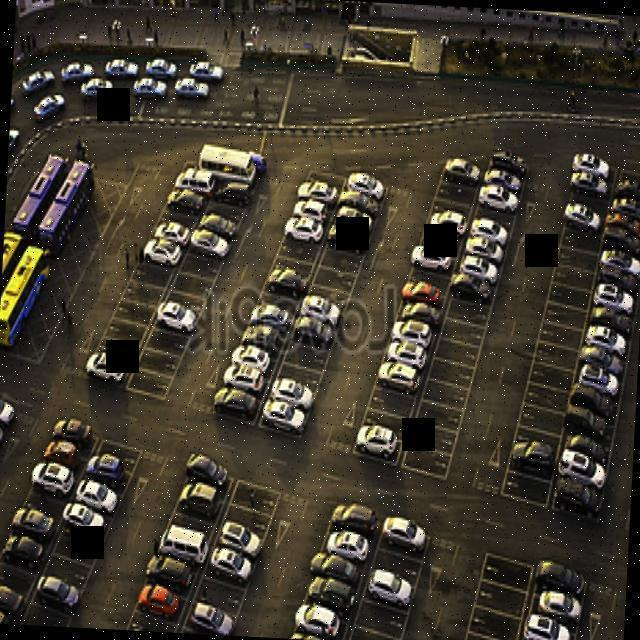space-empty: (354, 595, 414, 639), (193, 572, 248, 619), (479, 546, 536, 590), (500, 468, 557, 510), (42, 547, 96, 591), (469, 577, 528, 617), (364, 380, 420, 422), (222, 500, 275, 544), (372, 546, 428, 587), (161, 501, 215, 543), (232, 471, 282, 516), (273, 358, 326, 399), (301, 276, 354, 317), (438, 310, 491, 350), (320, 235, 368, 279), (52, 523, 101, 566), (166, 264, 217, 305), (464, 604, 521, 640), (405, 420, 458, 458), (443, 294, 495, 332), (434, 331, 483, 371), (20, 483, 70, 522), (124, 366, 175, 404), (313, 260, 361, 300), (95, 429, 144, 468), (178, 248, 228, 286), (355, 406, 409, 441), (158, 284, 209, 321), (126, 257, 174, 296), (429, 352, 476, 391), (118, 276, 166, 314), (285, 339, 334, 376), (514, 403, 567, 437), (144, 327, 194, 363), (425, 376, 472, 414), (273, 232, 322, 268), (413, 398, 462, 434), (134, 344, 184, 379), (400, 448, 450, 483), (101, 314, 147, 352), (122, 602, 180, 632), (512, 420, 563, 454), (518, 381, 570, 414), (111, 297, 157, 333), (154, 203, 202, 237), (524, 360, 574, 392), (530, 339, 580, 371), (296, 160, 343, 194), (540, 300, 589, 332), (0, 557, 38, 598), (535, 319, 585, 350), (255, 285, 300, 319), (20, 598, 76, 625), (268, 252, 315, 284), (557, 225, 603, 257), (546, 280, 593, 311), (552, 242, 600, 272), (431, 177, 479, 206), (417, 228, 465, 257), (550, 262, 596, 292), (473, 202, 518, 232), (99, 332, 141, 364), (427, 193, 475, 220), (563, 187, 610, 214), (401, 265, 451, 290), (203, 198, 246, 227), (344, 621, 405, 640), (176, 619, 233, 634), (457, 626, 513, 640)
space-occupied: (131, 573, 190, 625), (286, 594, 352, 639), (298, 569, 360, 615), (141, 548, 200, 592), (153, 520, 208, 566), (350, 424, 406, 469), (307, 546, 365, 589), (326, 497, 381, 542), (205, 542, 258, 588), (215, 516, 268, 560), (362, 569, 417, 611), (320, 525, 376, 566), (32, 573, 86, 615), (530, 587, 586, 627), (173, 477, 225, 520), (551, 480, 603, 523), (377, 516, 430, 558), (373, 354, 426, 396), (7, 504, 60, 545), (236, 321, 289, 362), (184, 598, 241, 636), (296, 292, 346, 335), (27, 456, 78, 498), (182, 449, 235, 488), (61, 501, 114, 540), (82, 352, 133, 392), (82, 450, 133, 490), (258, 398, 308, 438), (73, 477, 123, 517), (290, 313, 340, 353), (247, 300, 297, 339), (211, 387, 262, 425), (0, 528, 47, 569), (535, 558, 587, 595), (390, 312, 440, 350), (49, 414, 99, 452), (382, 333, 431, 371), (394, 295, 447, 330), (221, 361, 268, 400), (326, 216, 374, 254), (266, 378, 316, 414), (406, 241, 456, 277), (400, 273, 450, 309), (331, 200, 378, 238), (41, 436, 90, 472), (139, 236, 186, 273), (229, 341, 276, 378), (152, 304, 202, 338), (508, 442, 558, 476), (558, 453, 608, 487), (280, 212, 325, 249), (342, 165, 388, 201), (294, 169, 340, 205), (576, 365, 624, 399), (581, 324, 629, 358), (562, 412, 613, 444), (187, 229, 233, 264), (569, 387, 619, 419), (261, 266, 308, 300), (149, 220, 193, 256), (449, 272, 497, 305), (194, 211, 240, 245), (336, 186, 382, 220), (288, 192, 332, 227), (519, 612, 574, 640), (590, 284, 637, 316), (440, 153, 484, 186), (162, 185, 207, 217), (586, 306, 634, 336), (578, 344, 626, 374), (560, 436, 609, 465), (464, 234, 507, 266), (597, 247, 640, 279), (209, 178, 253, 209), (481, 162, 525, 193), (560, 201, 605, 231), (458, 254, 500, 286), (592, 268, 638, 297), (469, 215, 513, 245), (172, 169, 213, 201), (477, 181, 520, 211), (572, 150, 614, 180), (570, 168, 612, 198), (426, 210, 470, 238), (220, 159, 261, 189), (181, 155, 220, 186), (601, 228, 640, 258), (490, 147, 530, 176), (605, 208, 640, 241), (0, 577, 26, 617), (609, 193, 640, 223), (611, 171, 640, 202), (277, 626, 341, 640), (0, 601, 16, 626)
